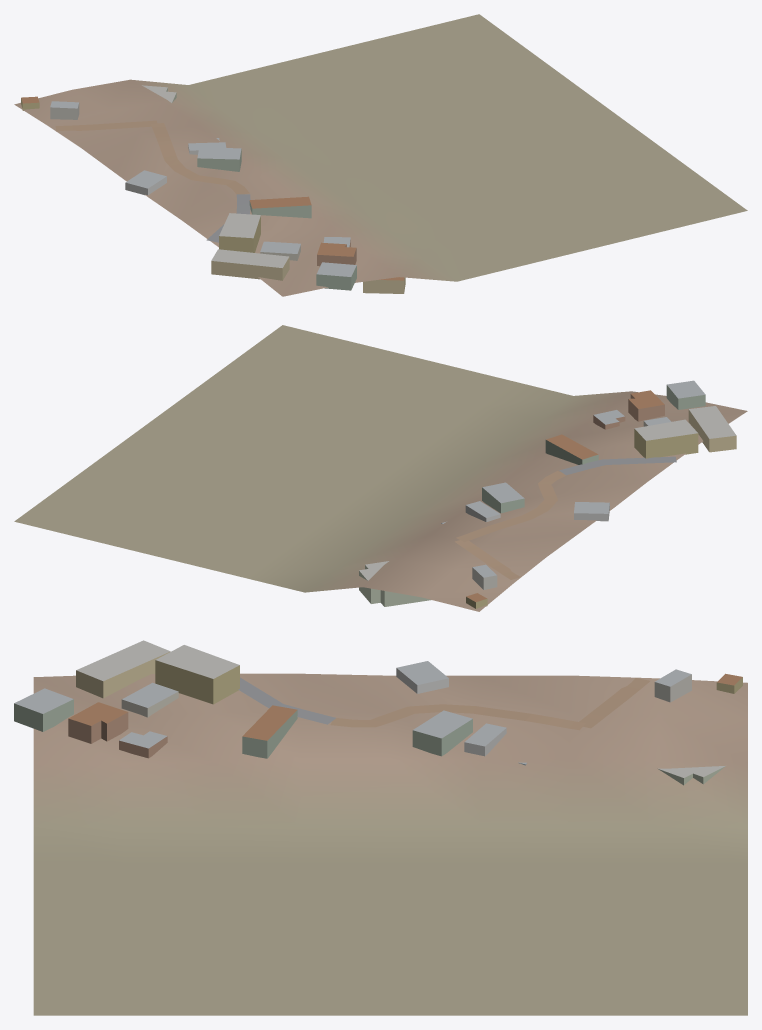
3 views of the same model, one above another, from view 1: azimuth 30°, elevation 25°; view 2: azimuth 150°, elevation 25°; view 3: azimuth 270°, elevation 25° (orthographic). The views are drawn at different scales.
Visible parts, largest first — view 1: Lo; view 2: Lo; view 3: Lo.
Part boxes in pixels (left/top/right/bottom): Lo: left=14, top=14, right=747, bottom=296; Lo: left=14, top=325, right=747, bottom=611; Lo: left=14, top=640, right=747, bottom=1015.
Bounding box in the file's own units: 273 × 25.73 × 263.
